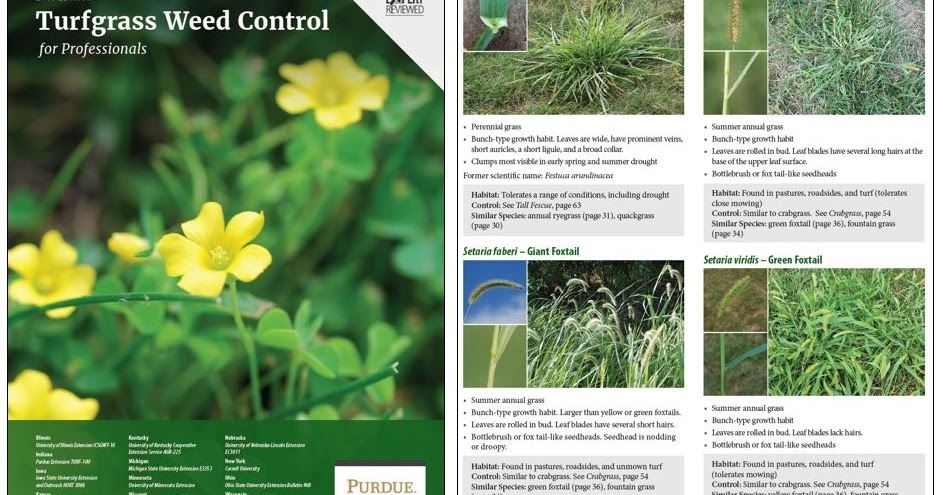crabgrass: (780, 277, 917, 391)
